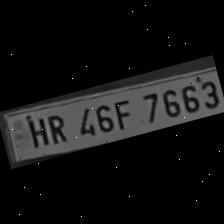3: (195, 76, 222, 112)
4: (66, 103, 99, 141)
6: (156, 84, 183, 120), (90, 99, 116, 136), (176, 80, 202, 116)
7: (133, 88, 163, 127)
F: (108, 95, 136, 132)
H: (22, 114, 50, 150)
R: (40, 109, 72, 147)
